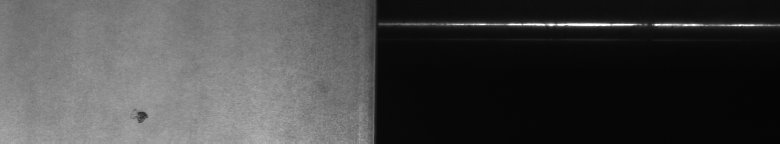fi: (130, 104, 153, 128)
